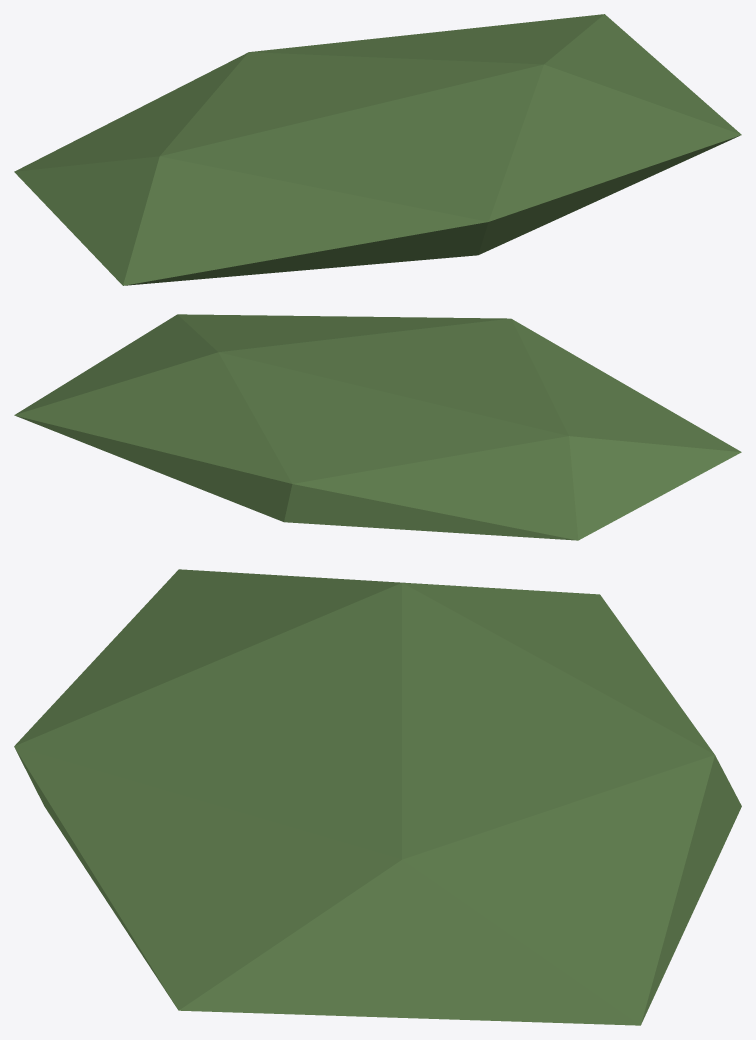
File: moss-cap-2.glb
The picture shows the model from 3 angles, top to bottom: view 1: azimuth 30°, elevation 25°; view 2: azimuth 150°, elevation 25°; view 3: azimuth 270°, elevation 25°; orthographic projection. The views are drawn at different scales.
Parts seen in each view (by area): view 1: moss_cap_2; view 2: moss_cap_2; view 3: moss_cap_2.
Boxes of the visible parts, bbox=[...] form: moss_cap_2: bbox=[14, 14, 741, 285]; moss_cap_2: bbox=[14, 314, 741, 540]; moss_cap_2: bbox=[14, 569, 741, 1025].
Bounding box in the file's own units: 1.19 × 0.1019 × 0.8043.
